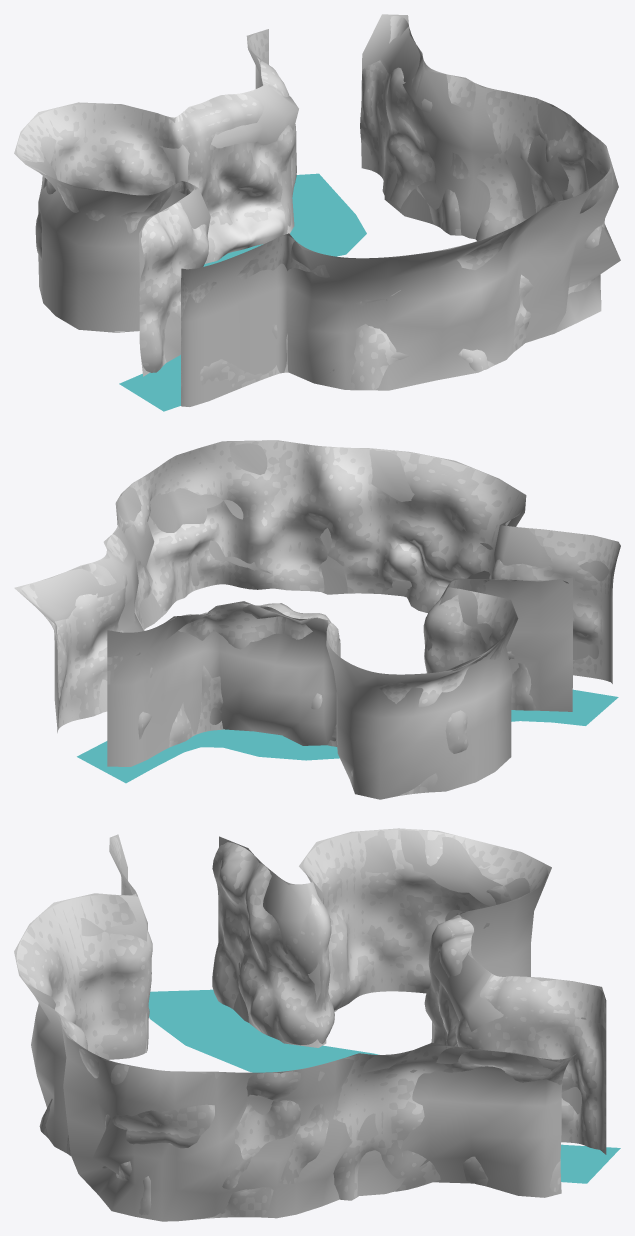
Rendered from home_Cliff.fbx.
The picture shows the model from 3 angles, top to bottom: view 1: azimuth 30°, elevation 25°; view 2: azimuth 150°, elevation 25°; view 3: azimuth 270°, elevation 25°; orthographic projection. The views are drawn at different scales.
Parts seen in each view (by area): view 1: Cliff 300, Cliff 9000, Cliff 20000, Sungai; view 2: Cliff 300, Cliff 20000, Cliff 9000, Sungai; view 3: Cliff 300, Cliff 9000, Cliff 20000, Sungai.
Part boxes in pixels (left/top/right/bottom): Cliff 300: left=14, top=14, right=620, bottom=406; Cliff 9000: left=16, top=15, right=613, bottom=404; Cliff 20000: left=16, top=16, right=611, bottom=401; Sungai: left=119, top=173, right=366, bottom=411; Cliff 300: left=14, top=440, right=620, bottom=799; Cliff 20000: left=20, top=440, right=619, bottom=795; Cliff 9000: left=19, top=441, right=619, bottom=794; Sungai: left=77, top=689, right=618, bottom=783; Cliff 300: left=14, top=828, right=606, bottom=1221; Cliff 9000: left=17, top=829, right=606, bottom=1217; Cliff 20000: left=16, top=829, right=606, bottom=1219; Sungai: left=148, top=989, right=620, bottom=1183.
Size of the model in its own units: 4574 by 1431 by 4691.
